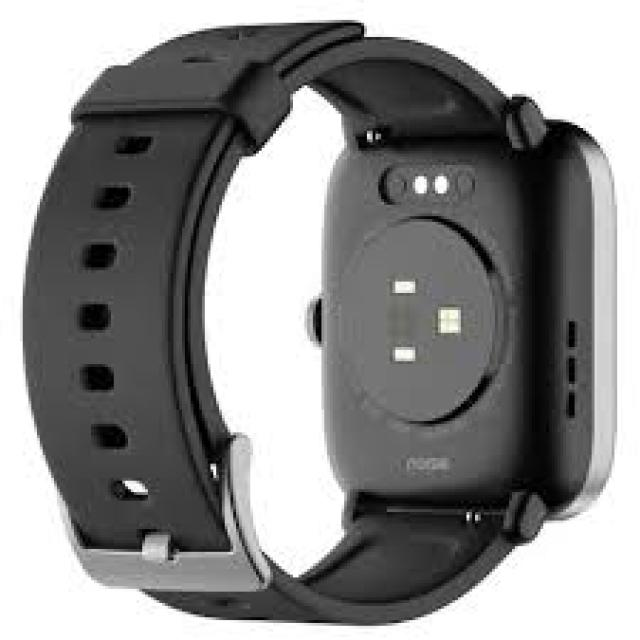objects: (23, 20, 616, 625)
